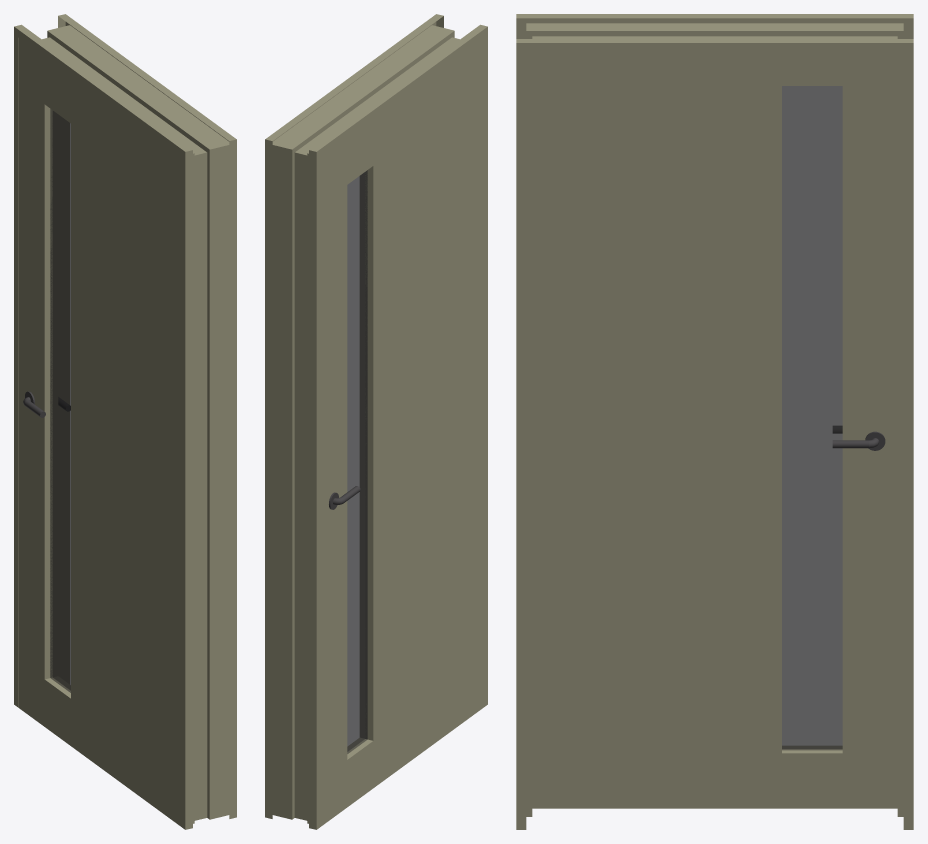
File: door5.FBX
3 views of the same model, side by side, from view 1: azimuth 30°, elevation 25°; view 2: azimuth 150°, elevation 25°; view 3: azimuth 270°, elevation 25° (orthographic). The views are drawn at different scales.
Parts seen in each view (by area): view 1: 53:5:5; view 2: 53:5:5; view 3: 53:5:5.
Part boxes in pixels (left/top/right/bottom): 53:5:5: left=14, top=14, right=236, bottom=829; 53:5:5: left=265, top=14, right=487, bottom=829; 53:5:5: left=516, top=14, right=913, bottom=829.
Bounding box in the file's own units: 7.87 × 84.25 × 38.58.
